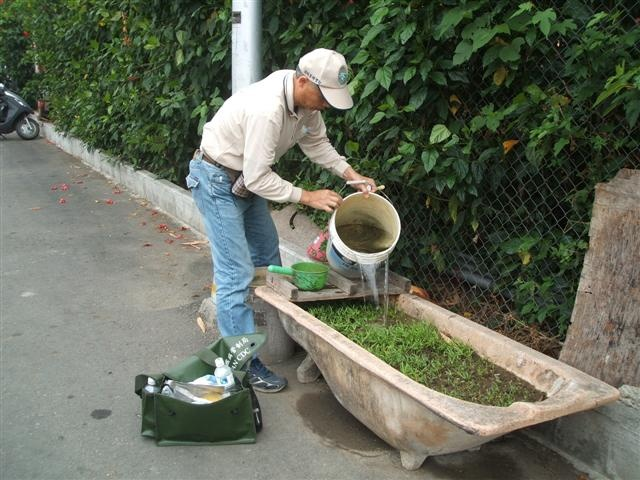bowl: (291, 262, 329, 290)
bucket: (326, 193, 401, 279)
tub: (253, 285, 619, 470)
